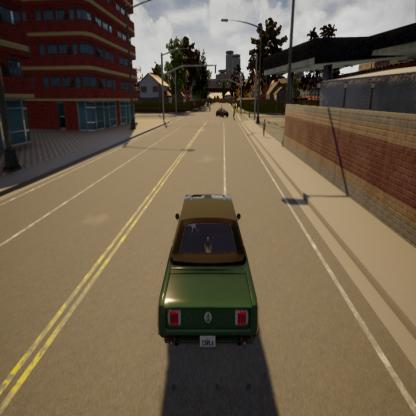Cars: (153, 188, 263, 352), (216, 106, 229, 121)
Pedestrian: (260, 117, 268, 140)
